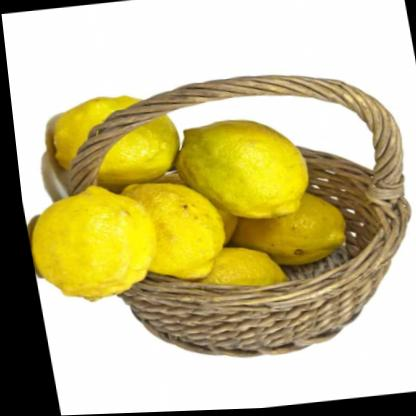--: (35, 69, 194, 211), (15, 171, 170, 314), (167, 102, 318, 235)
